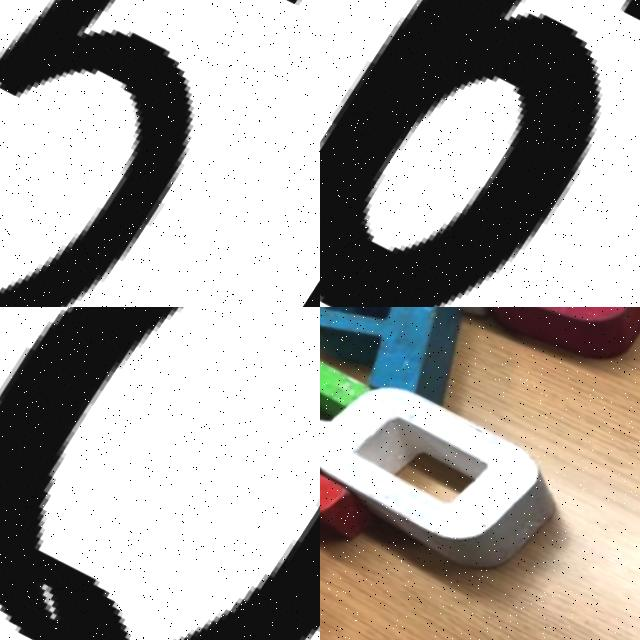5: (0, 0, 320, 307)
6: (320, 0, 640, 307)
F: (320, 311, 385, 528)
I: (320, 398, 380, 640)
O: (442, 307, 640, 414)
Q: (0, 307, 320, 640), (320, 337, 609, 615)
